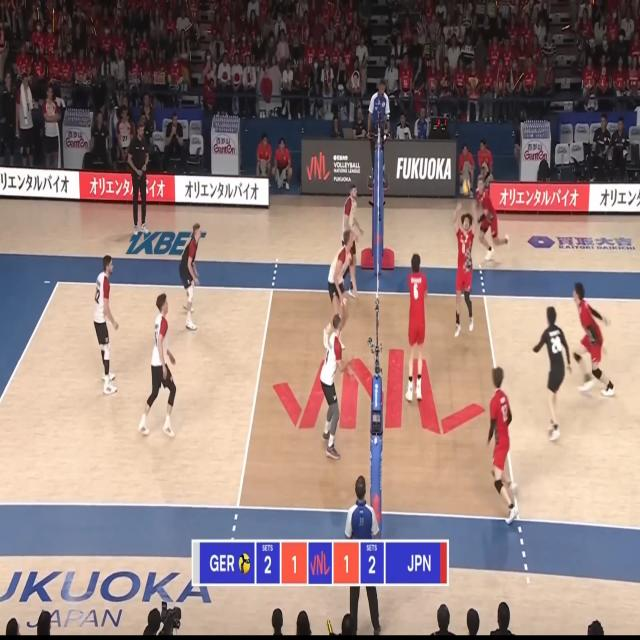ball: (463, 179, 470, 195)
